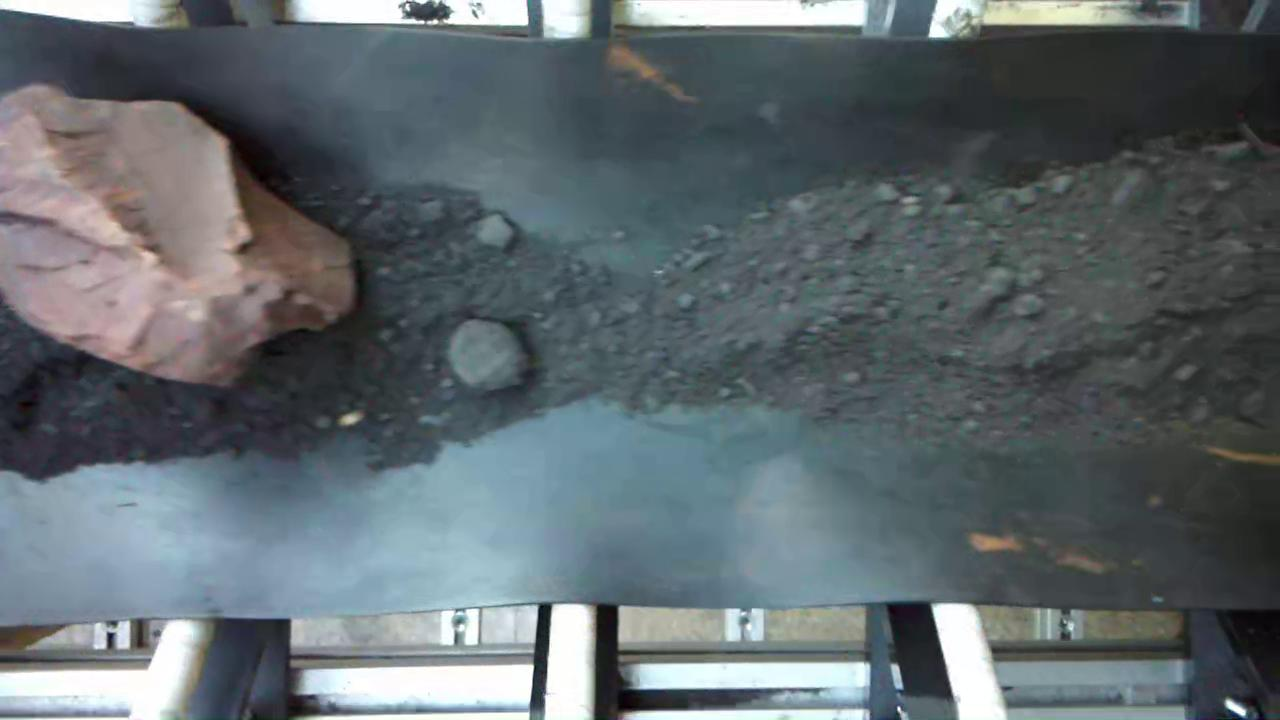conveyor: (7, 40, 1269, 595)
